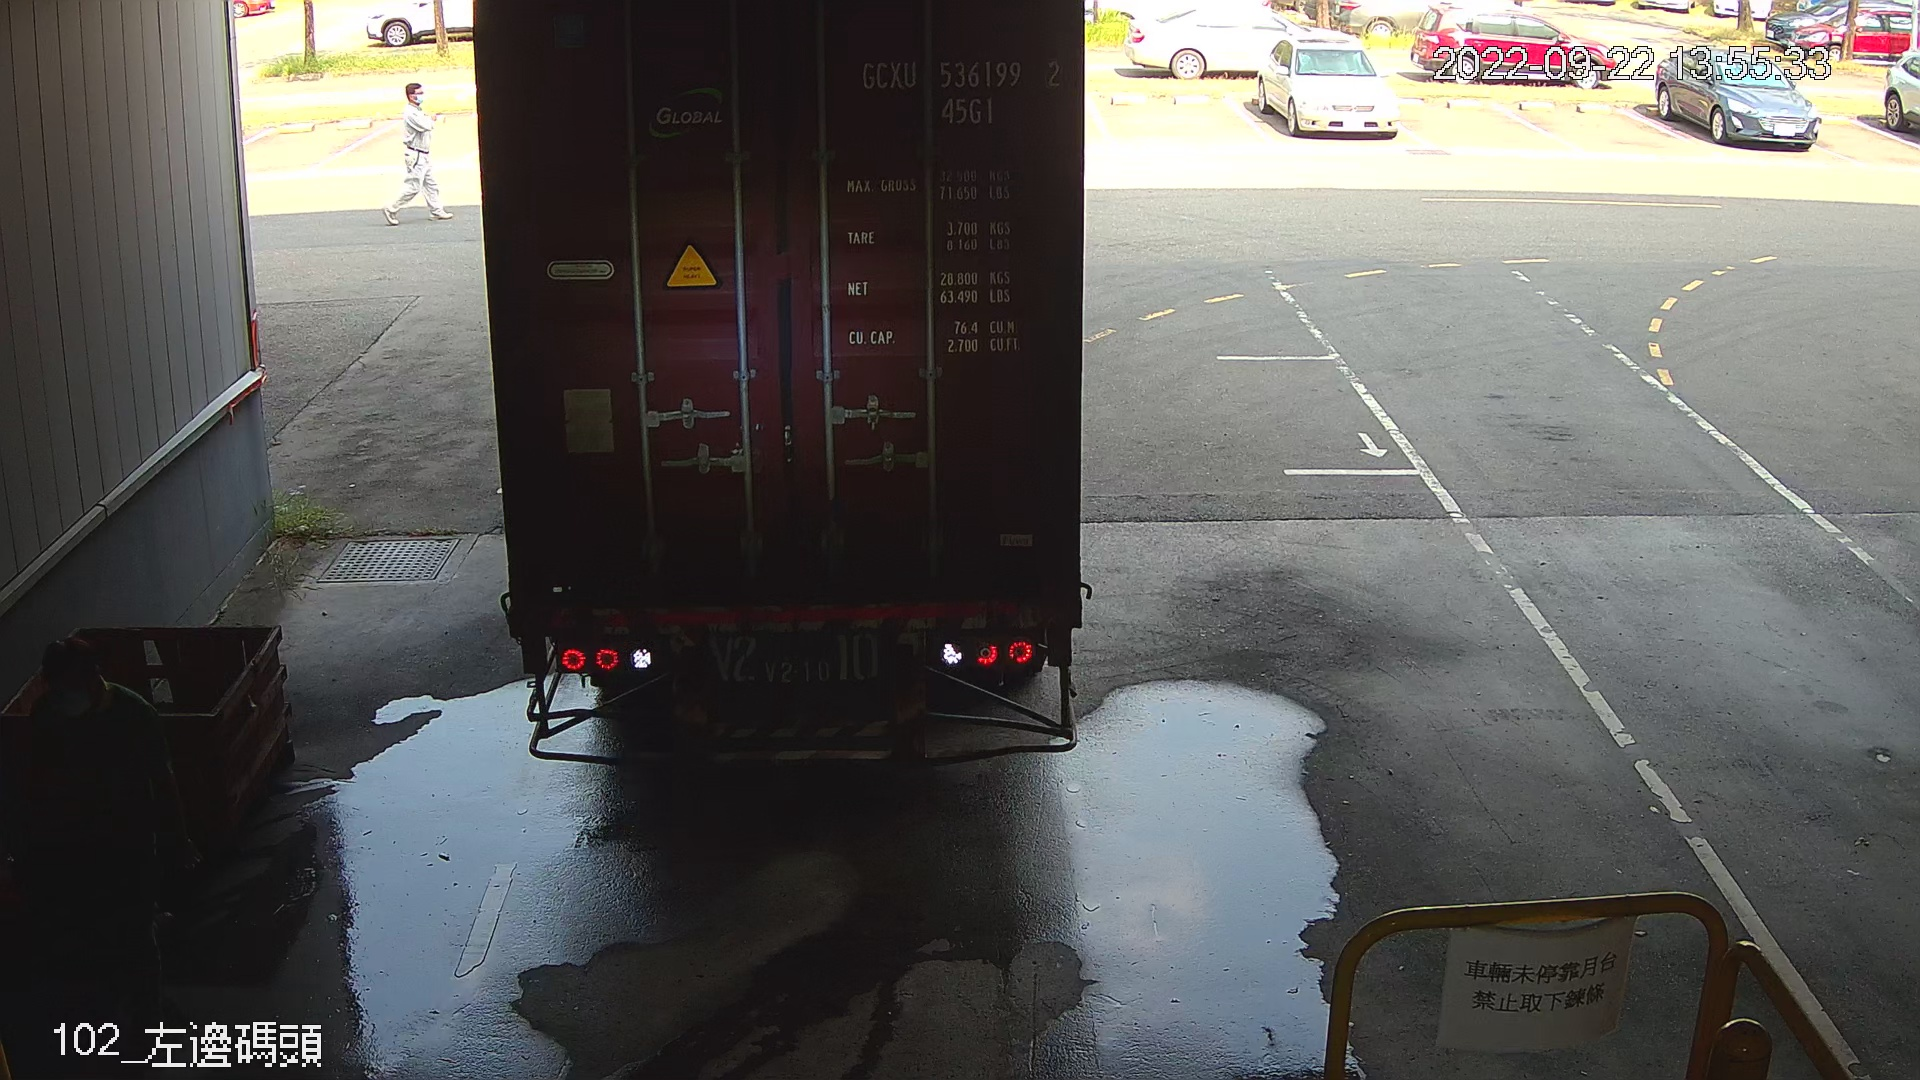container: (851, 44, 1075, 132)
